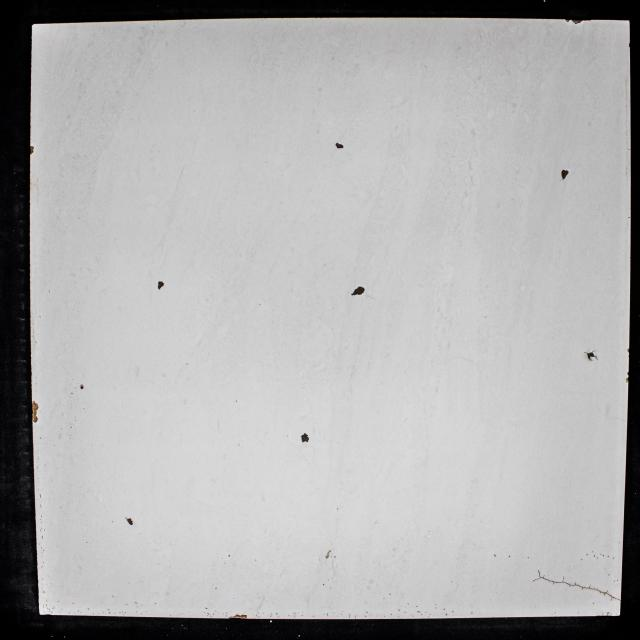edge-chipping: (31, 399, 39, 424), (228, 613, 248, 620), (566, 18, 584, 24), (30, 145, 35, 155), (625, 378, 629, 383), (626, 348, 630, 353), (627, 371, 629, 376)
hole: (583, 349, 598, 362), (349, 286, 366, 296), (156, 280, 166, 291), (560, 169, 570, 180), (300, 433, 310, 443), (126, 517, 134, 527), (334, 142, 344, 150), (325, 549, 332, 560), (78, 384, 85, 390), (322, 583, 325, 586), (594, 554, 596, 558), (228, 554, 230, 557), (494, 554, 496, 557)
line: (532, 570, 620, 600)
